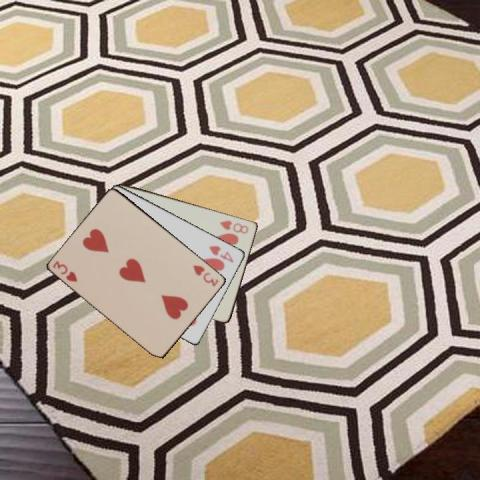3h: (50, 258, 79, 284), (190, 262, 220, 287)
4h: (206, 243, 235, 264)
8h: (217, 217, 250, 235)
